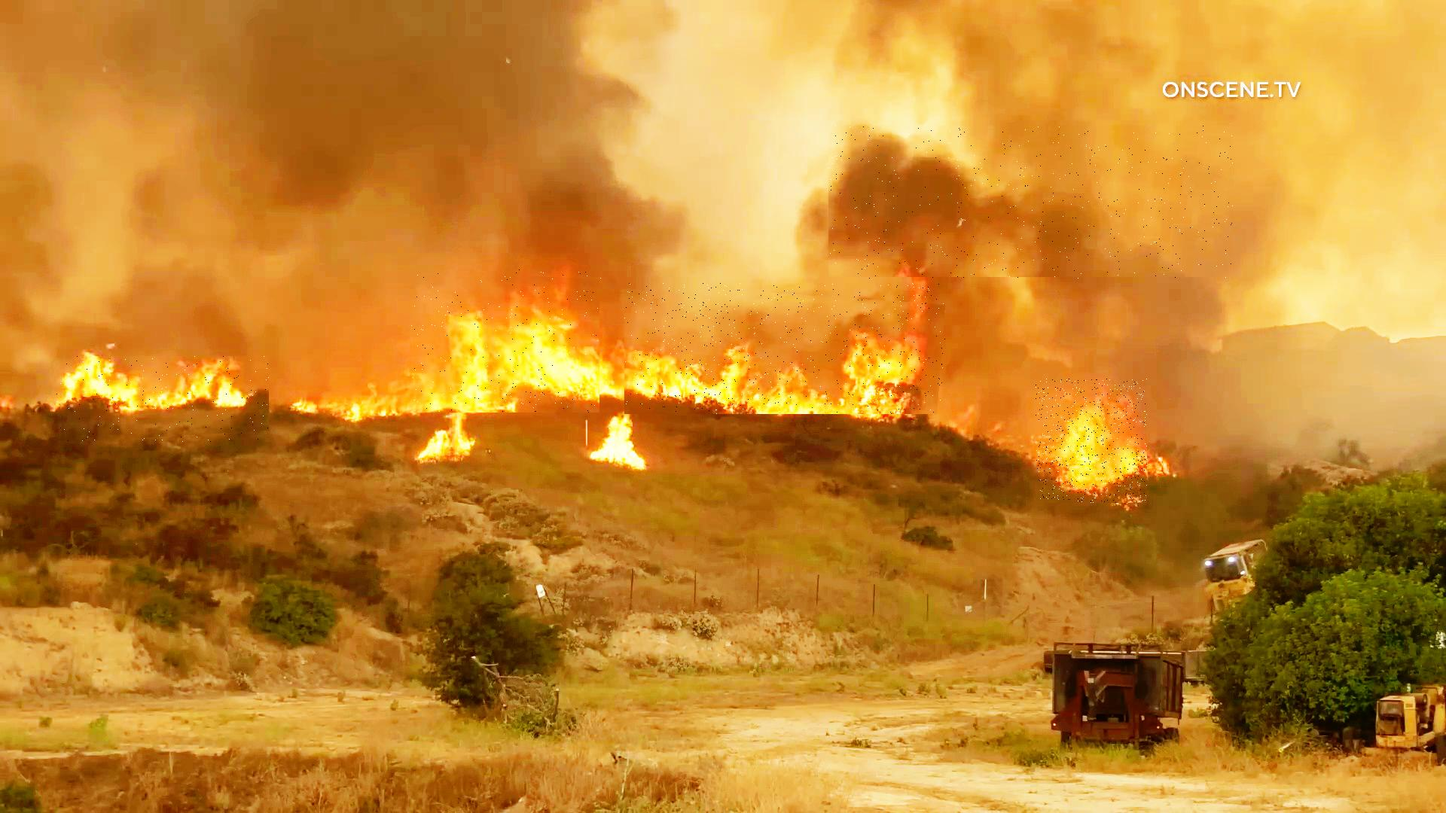fire: (625, 283, 945, 414), (411, 270, 602, 413), (57, 356, 269, 443), (1036, 379, 1147, 503)
smoke: (829, 126, 1233, 279)
